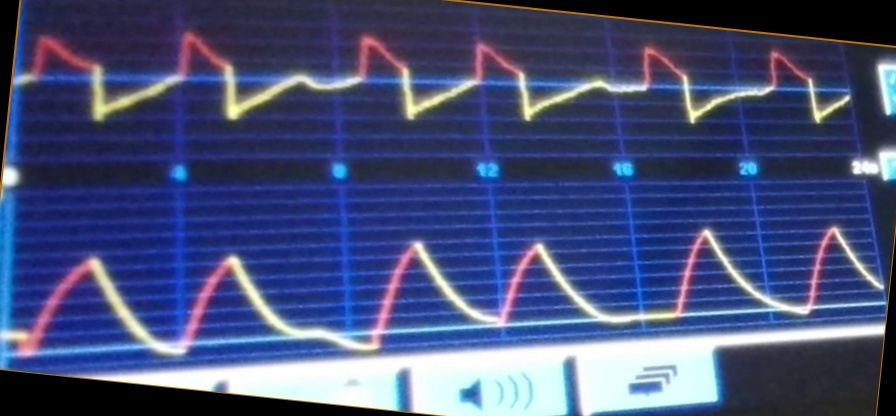Ineffective_effort Flow: (23, 26, 848, 136)
Ineffective_effort Volume: (7, 221, 879, 356)
